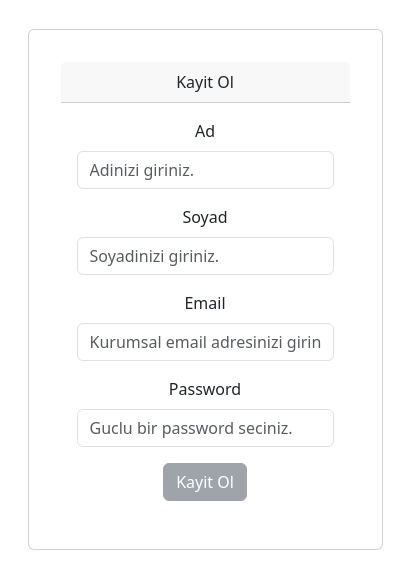
Scenario: Register Page › Error Messages › Email input throws error for melis@wit.
Type "melis@wit." into the field labelled "Email" at {"x": 206, "y": 342}, box left=77, top=323, right=334, bottom=361
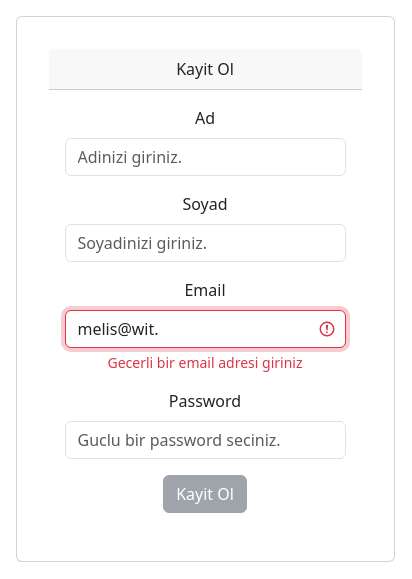
Check: the text "Gecerli bir email adresi giriniz" is shown, box left=108, top=353, right=302, bottom=372
